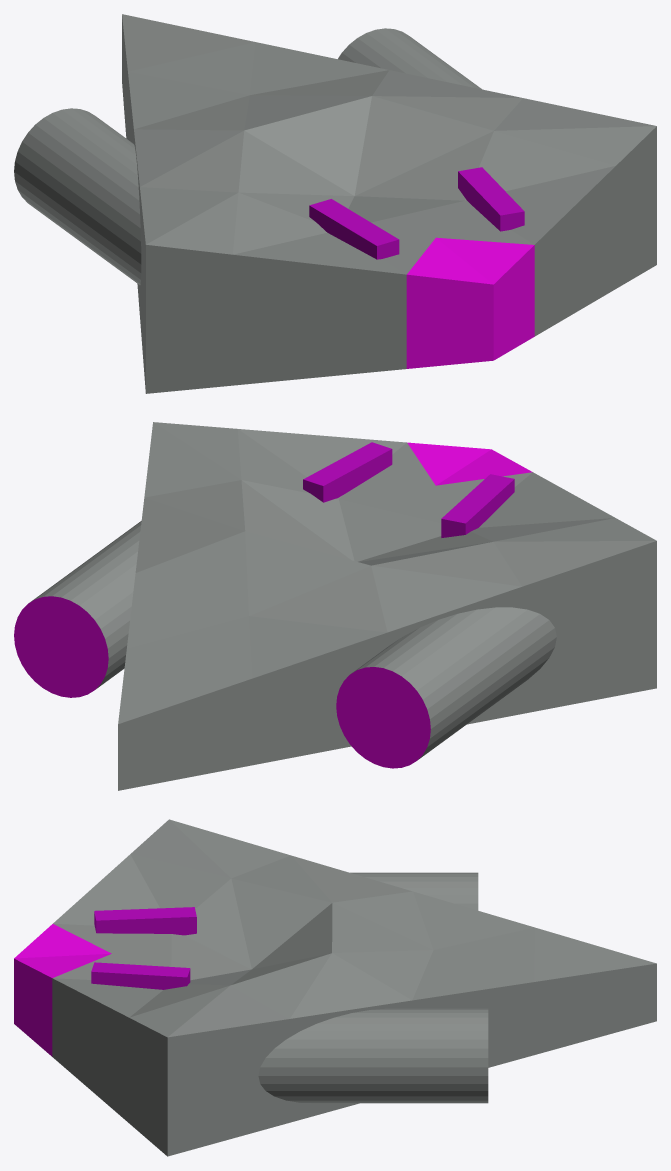
The model's file is enemy_3.fbx.
The picture shows the model from 3 angles, top to bottom: view 1: azimuth 30°, elevation 25°; view 2: azimuth 150°, elevation 25°; view 3: azimuth 270°, elevation 25°; orthographic projection. The views are drawn at different scales.
Visible parts, largest first — view 1: Cube; view 2: Cube; view 3: Cube.
Part boxes in pixels (<box>): Cube: <box>14,14,656,393</box>; Cube: <box>14,422,656,790</box>; Cube: <box>14,819,656,1156</box>.
Bounding box in the file's own units: 3.28 × 0.9221 × 4.17.
